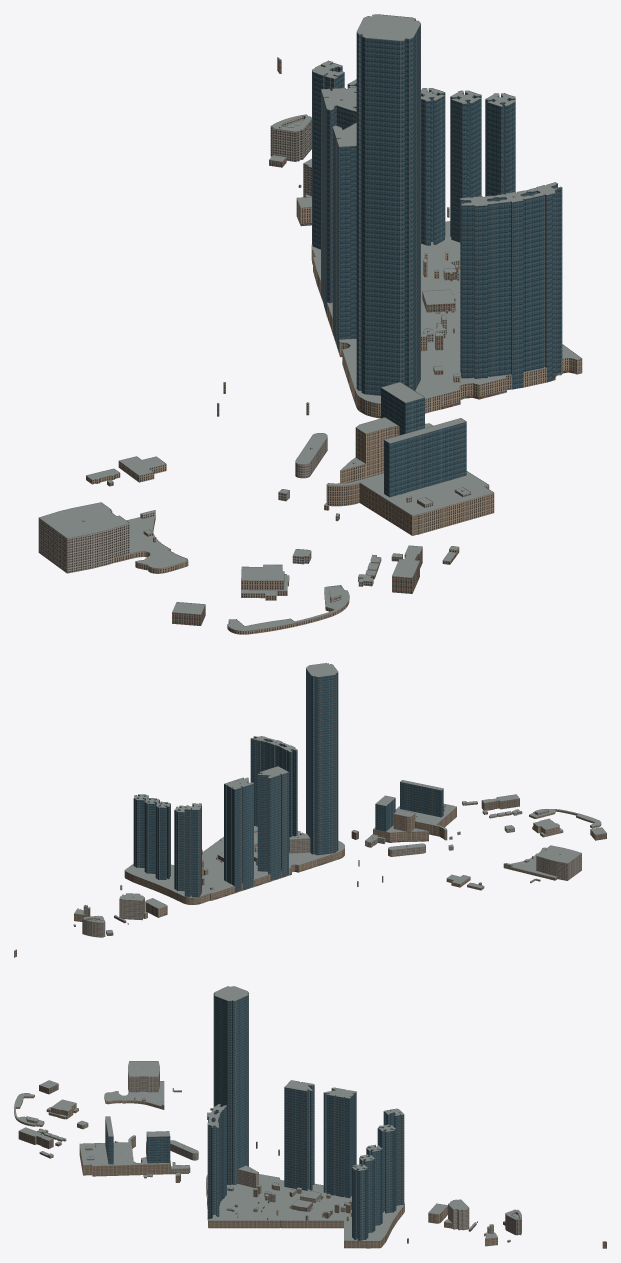
Rendered from west-kowloon-buildings.glb.
3 renders of one model, top to bottom at view 1: azimuth 30°, elevation 25°; view 2: azimuth 150°, elevation 25°; view 3: azimuth 270°, elevation 25°, orthographic. The views are drawn at different scales.
Visible parts, largest first — view 1: District_-10_-8, District_-11_-6, District_-9_-7, District_-8_-10, District_-9_-9, District_-9_-8, District_-14_-6, District_-10_-9, District_-10_-10, District_-9_-11, District_-13_-5, District_-8_-13 (+4 smaller); view 2: District_-10_-8, District_-11_-6, District_-9_-9, District_-10_-9, District_-10_-10, District_-8_-10, District_-9_-11, District_-14_-6, District_-9_-7, District_-9_-8, District_-9_-12, District_-12_-4 (+3 smaller); view 3: District_-9_-9, District_-10_-8, District_-10_-10, District_-10_-9, District_-11_-6, District_-9_-11, District_-8_-10, District_-14_-6, District_-9_-7, District_-9_-8, District_-9_-12, District_-12_-4 (+2 smaller).
Part boxes in pixels (x1=…): District_-10_-8: x1=356, y1=14, x2=460, y2=395; District_-11_-6: x1=326, y1=382, x2=494, y2=535; District_-9_-7: x1=495, y1=182, x2=562, y2=389; District_-8_-10: x1=421, y1=88, x2=515, y2=260; District_-9_-9: x1=311, y1=221, x2=582, y2=418; District_-9_-8: x1=423, y1=195, x2=499, y2=378; District_-14_-6: x1=38, y1=502, x2=188, y2=573; District_-10_-9: x1=332, y1=122, x2=356, y2=352; District_-10_-10: x1=321, y1=87, x2=356, y2=314; District_-9_-11: x1=296, y1=60, x2=356, y2=248; District_-13_-5: x1=241, y1=549, x2=311, y2=600; District_-8_-13: x1=270, y1=114, x2=311, y2=161; District_-10_-8: x1=289, y1=663, x2=338, y2=855; District_-11_-6: x1=373, y1=780, x2=456, y2=842; District_-9_-9: x1=124, y1=826, x2=344, y2=904; District_-10_-9: x1=254, y1=766, x2=288, y2=881; District_-10_-10: x1=224, y1=777, x2=253, y2=893; District_-8_-10: x1=133, y1=794, x2=170, y2=879; District_-9_-11: x1=145, y1=803, x2=201, y2=917; District_-14_-6: x1=511, y1=845, x2=581, y2=880; District_-9_-7: x1=250, y1=736, x2=285, y2=826; District_-9_-8: x1=254, y1=744, x2=297, y2=852; District_-9_-12: x1=119, y1=893, x2=147, y2=924; District_-12_-4: x1=467, y1=794, x2=522, y2=815; District_-9_-9: x1=206, y1=1174, x2=404, y2=1248; District_-10_-8: x1=213, y1=986, x2=261, y2=1193; District_-10_-10: x1=323, y1=1087, x2=356, y2=1197; District_-10_-9: x1=271, y1=1080, x2=314, y2=1197; District_-11_-6: x1=79, y1=1116, x2=170, y2=1178; District_-9_-11: x1=377, y1=1108, x2=447, y2=1223; District_-8_-10: x1=346, y1=1144, x2=382, y2=1240; District_-14_-6: x1=104, y1=1061, x2=164, y2=1109; District_-9_-7: x1=207, y1=1111, x2=220, y2=1219; District_-9_-8: x1=212, y1=1104, x2=271, y2=1217; District_-9_-12: x1=448, y1=1199, x2=477, y2=1230; District_-12_-4: x1=18, y1=1127, x2=53, y2=1157.
Size of what is drawn, in the model's own units: 922 by 486 by 1363.
7 materials, 6 textured.
